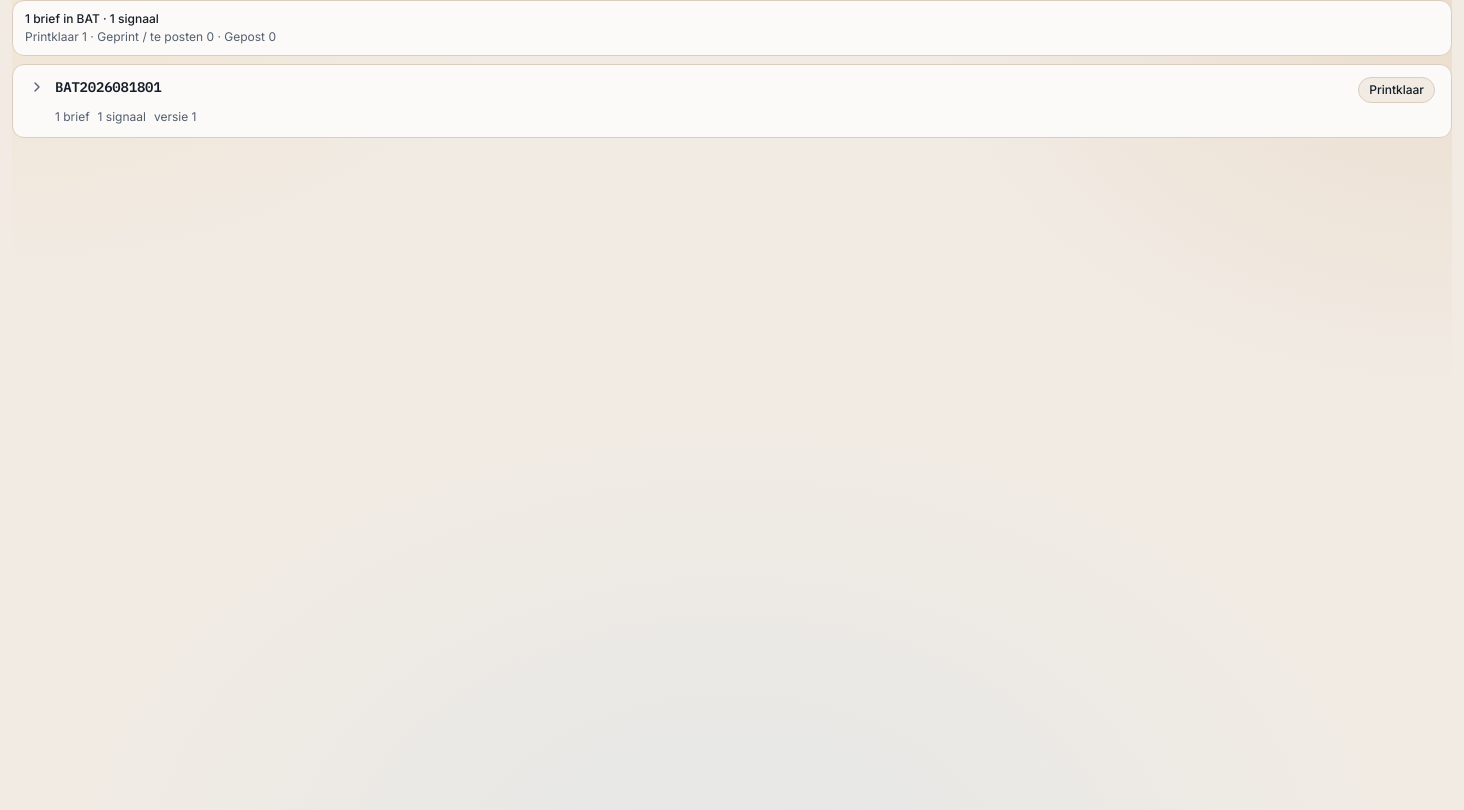
Test: ProductiekernPrintbatchWerkbak › biedt na uitklappen uitsluitend de geregistreerde batchbestanden opnieuw aan
Click the button with test id "productiekern-printbatch-toggle-BAT2026081801" at (108, 87), box [13,65,1451,137]
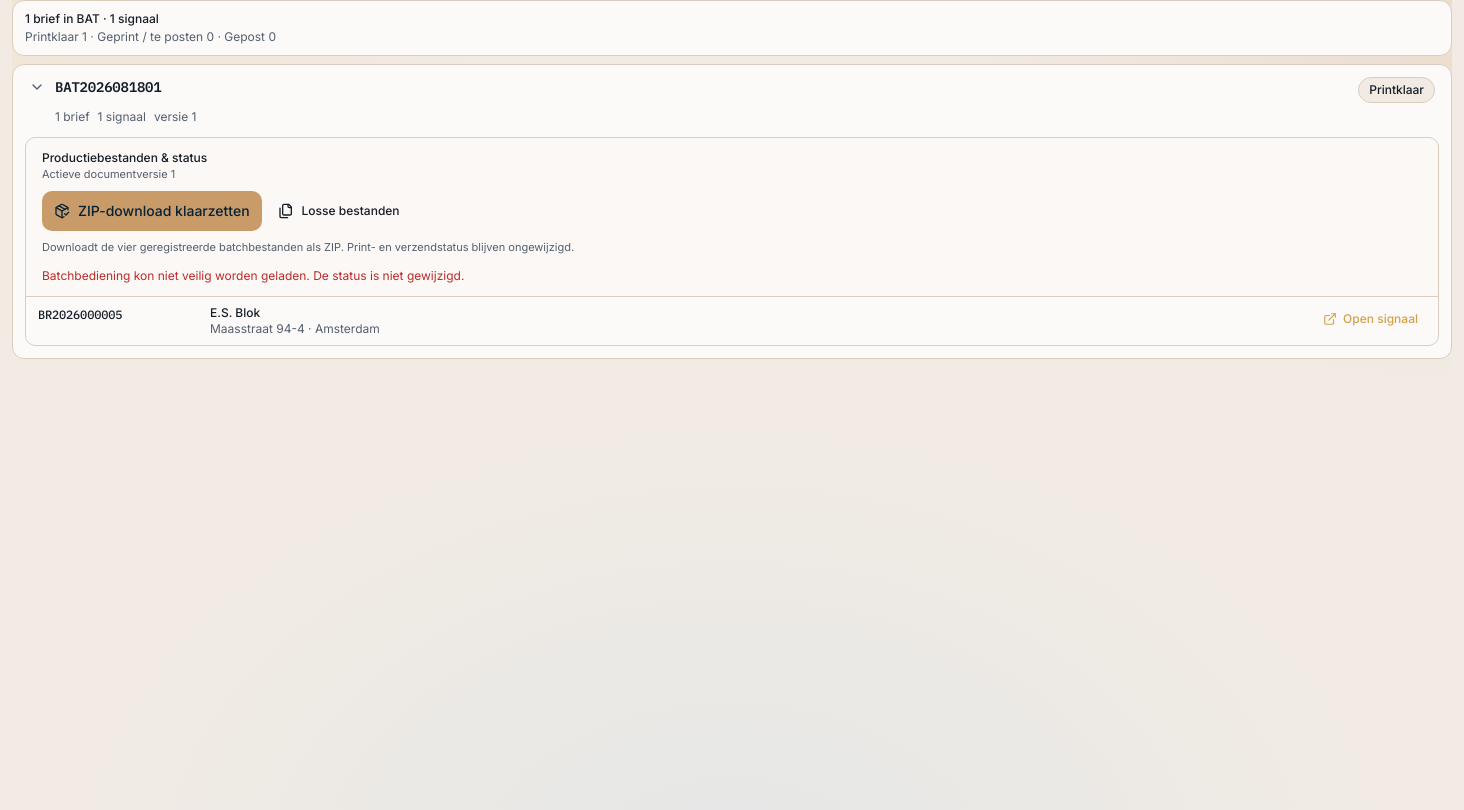
Expected: the button with test id "productiekern-productiebestanden-voorbereiden" reads "ZIP-download klaarzetten", [42,190,262,230]
